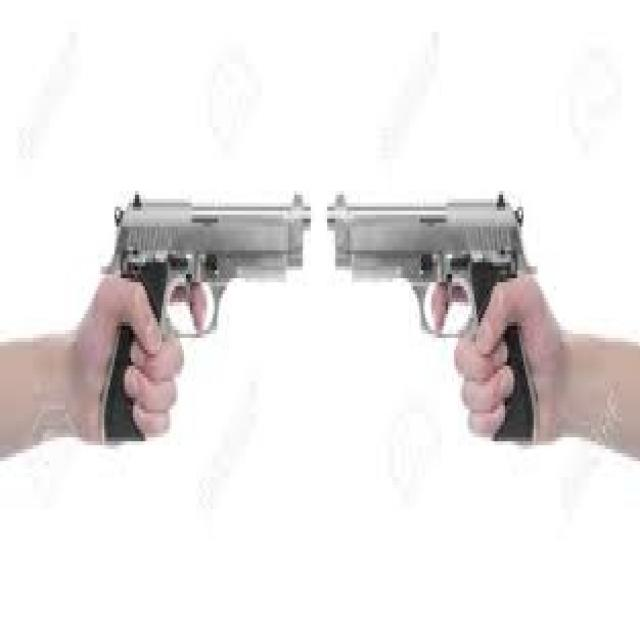gun: (315, 182, 547, 466), (94, 173, 313, 463)
